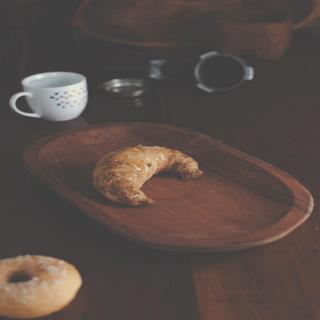Croissant: (89, 152, 203, 209)
Doughnut: (0, 253, 79, 318)
